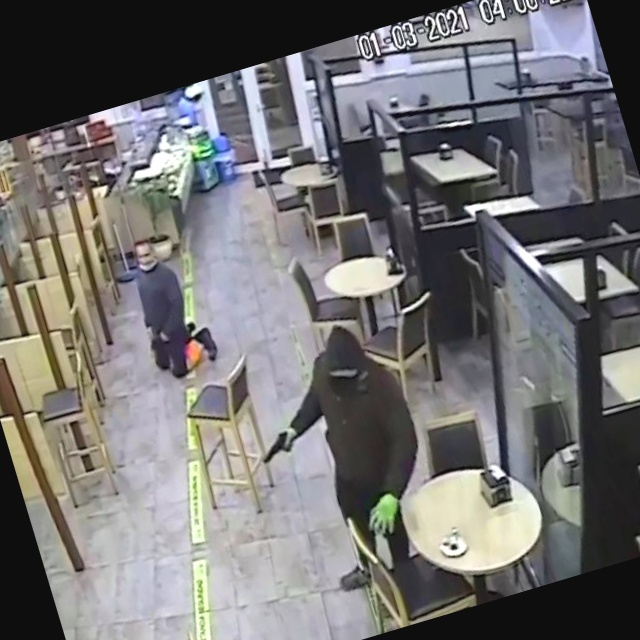gun: (243, 420, 313, 486)
